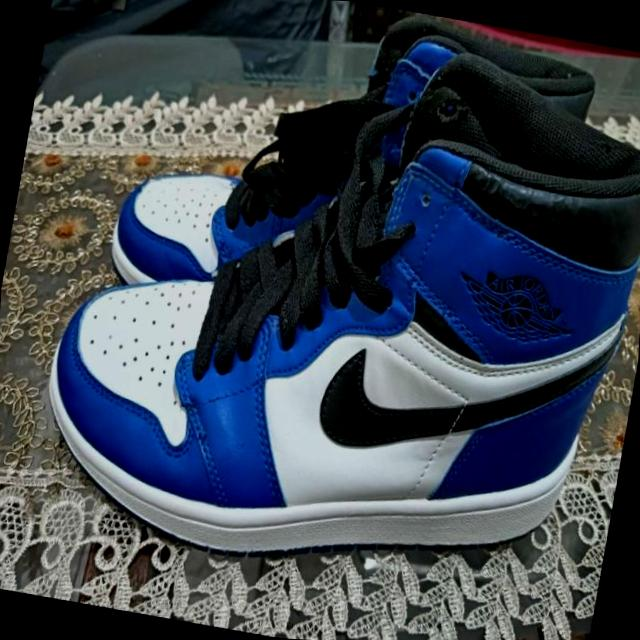nike_fake_jordan: (21, 0, 640, 623), (97, 0, 609, 362)
